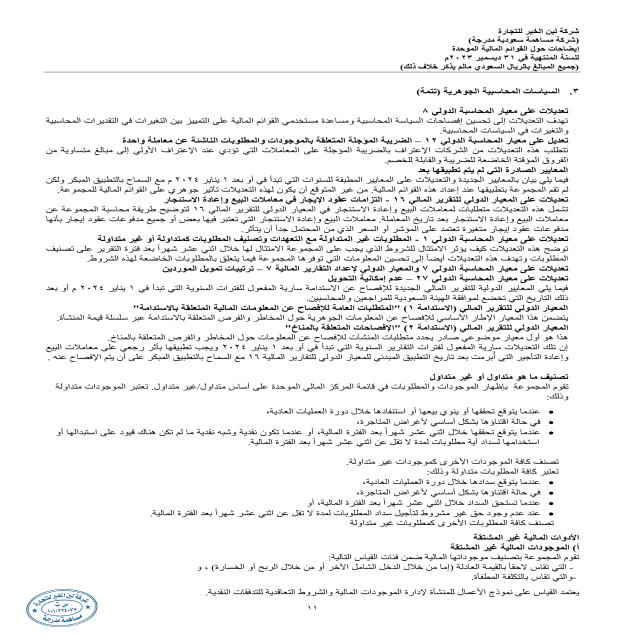notes: (449, 44, 586, 51)
text: (44, 84, 586, 608)
